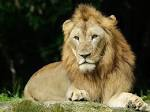lion: (19, 9, 149, 111)
